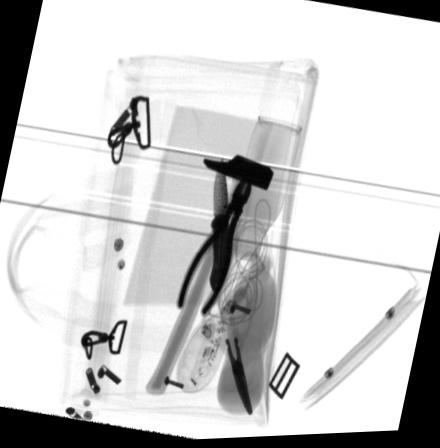Hammer: (144, 155, 274, 396)
Knife: (208, 158, 229, 292)
Pliers: (175, 176, 252, 320)
Scissors: (200, 289, 254, 419)
